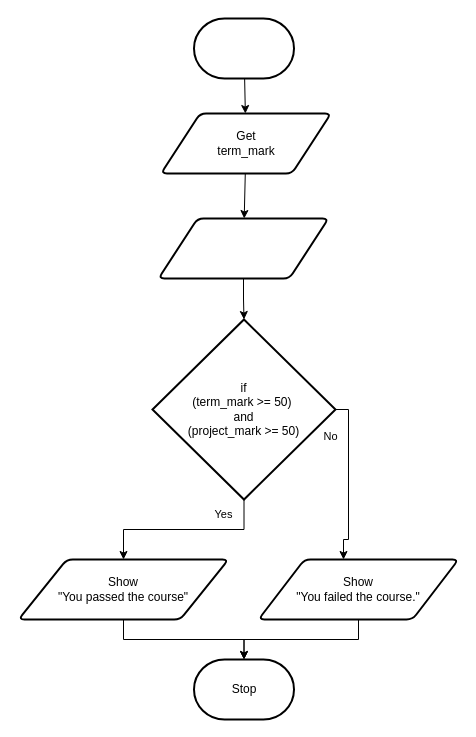
Some shapes in this 476 by 737 pixel diagram are drawn without their labels. Here are the shapes that lost their labels. From the top down, the box of each, then its label:
(192, 17, 294, 79): Start
(157, 217, 329, 279): Get project_mark
